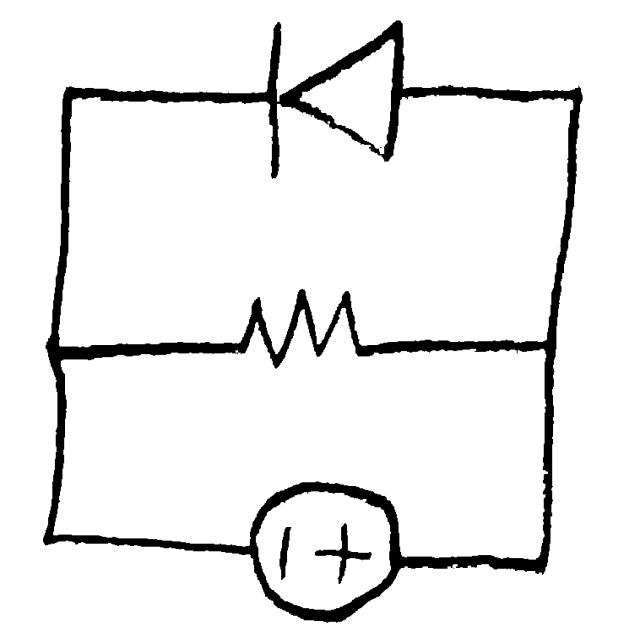diode: (249, 11, 426, 185)
resistor: (237, 469, 418, 627), (225, 280, 378, 374)
